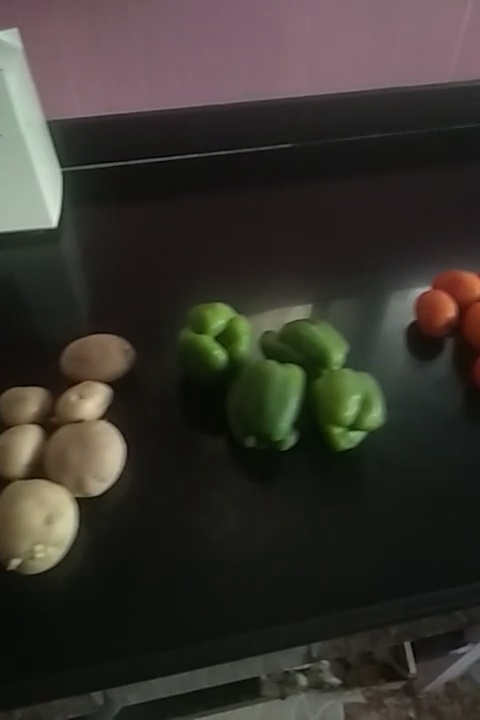capsicum: (231, 360, 319, 455), (173, 295, 248, 391), (259, 315, 363, 379), (304, 364, 390, 437)
potato: (1, 474, 78, 566), (42, 419, 137, 493), (53, 338, 139, 376), (53, 380, 120, 425), (1, 381, 61, 428), (1, 426, 48, 479)
tomato: (440, 267, 480, 310), (417, 291, 453, 334), (452, 305, 480, 351)
